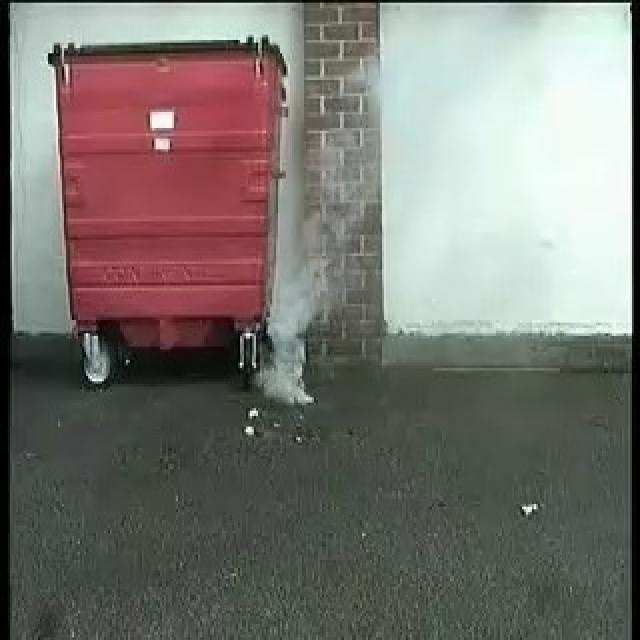smoke: (254, 205, 340, 402)
